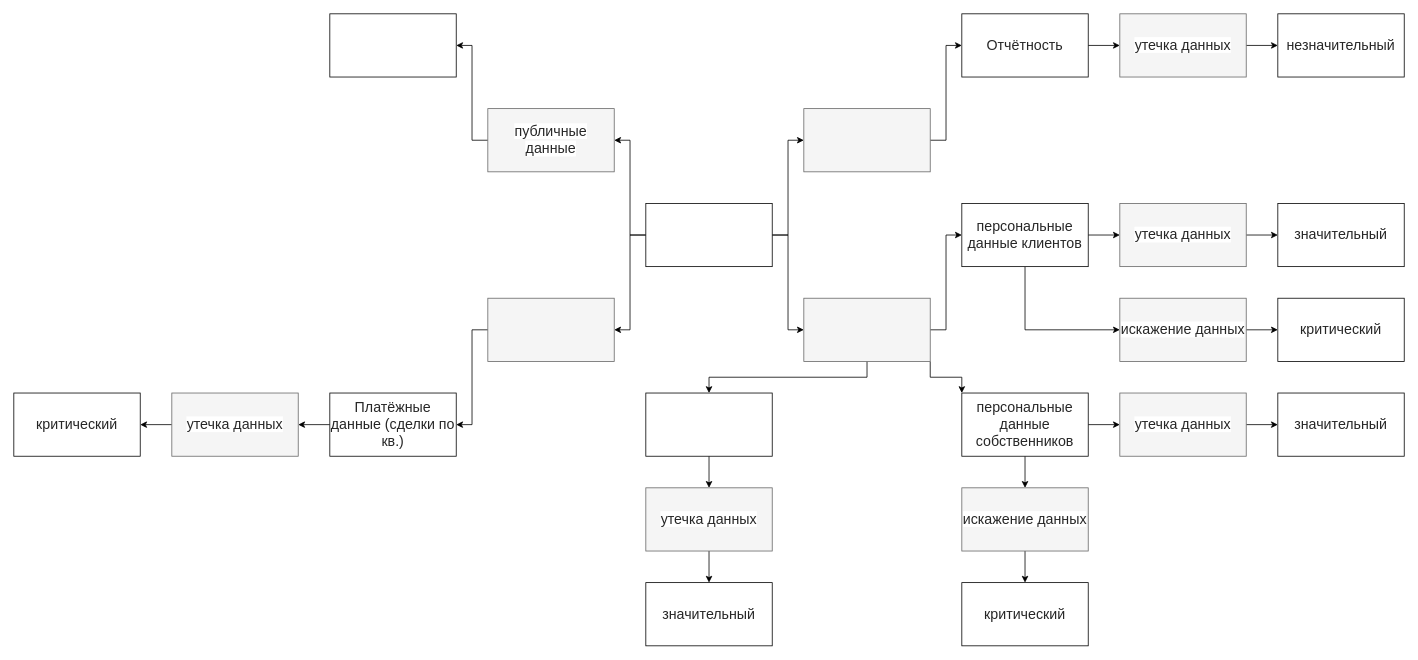
The diagram is 1418 pixels wide and 660 high, and some of its shapes have lost their labels. The centre of each missing label's shape, as x and y in pixels:
Безопасность данных: [708,235]
внутренние данные: [866,140]
ЖКХ платёжная инфо: [708,424]
Инфо об объектах недвижимости для витрины: [392,45]
конфиденциальные данные: [866,329]
секретные данные: [550,329]
